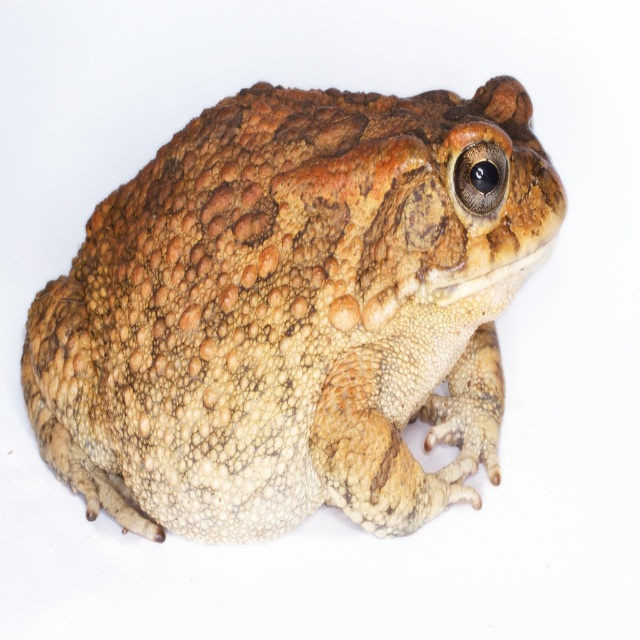Frog: (18, 71, 570, 546)
